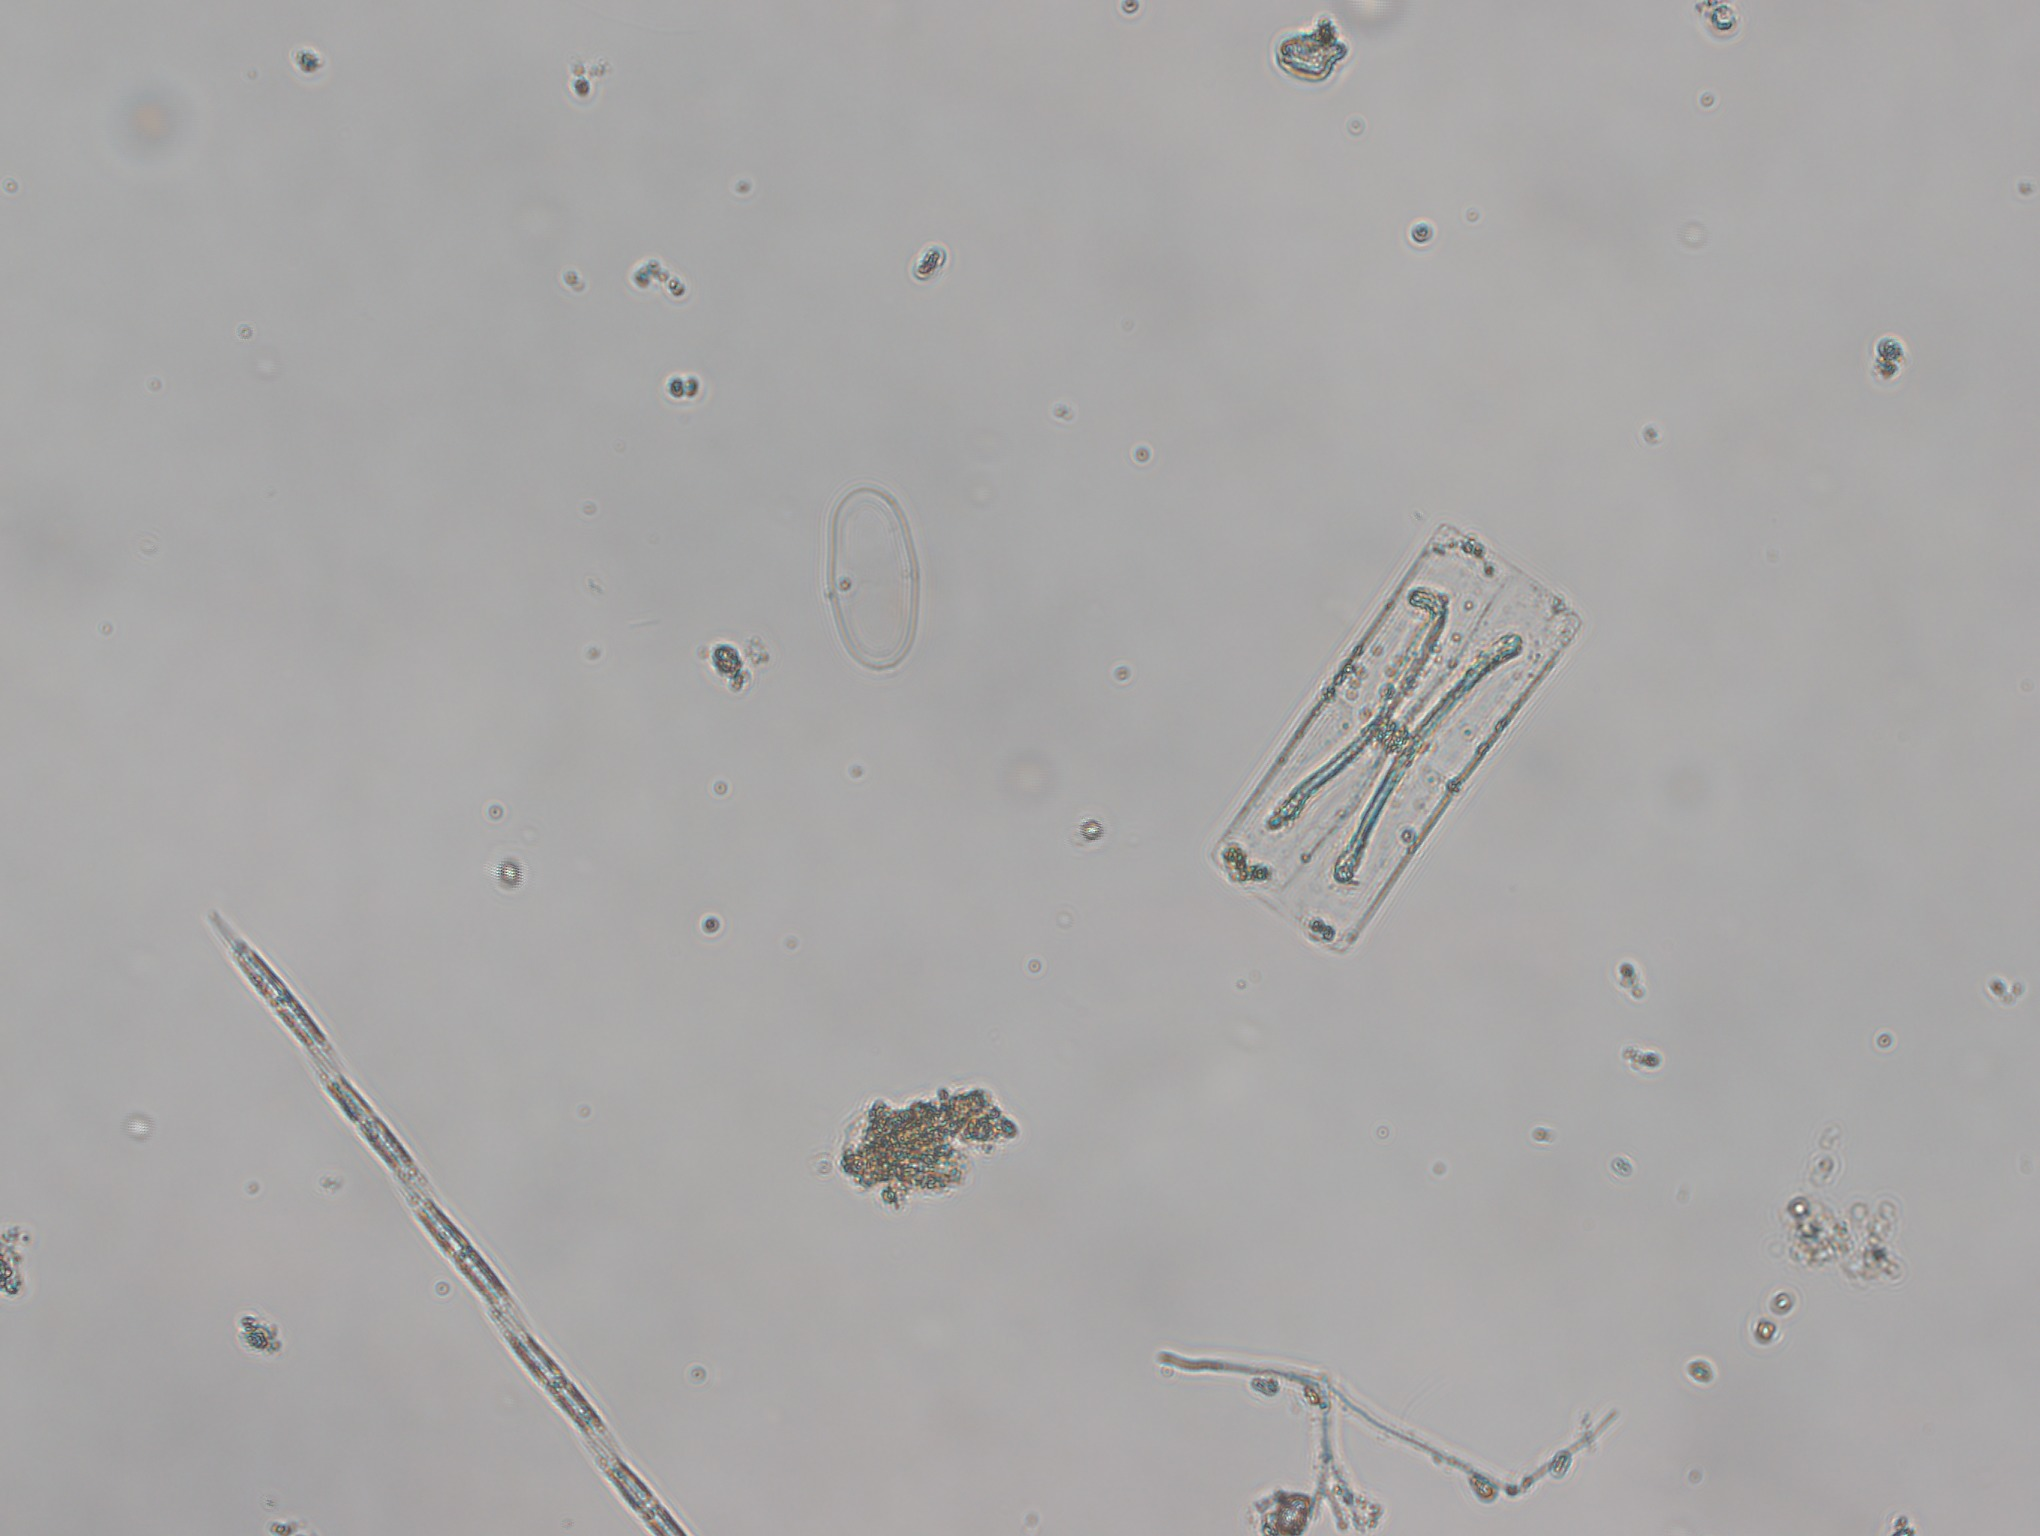guinardia flaccida: (1205, 487, 1593, 962)
